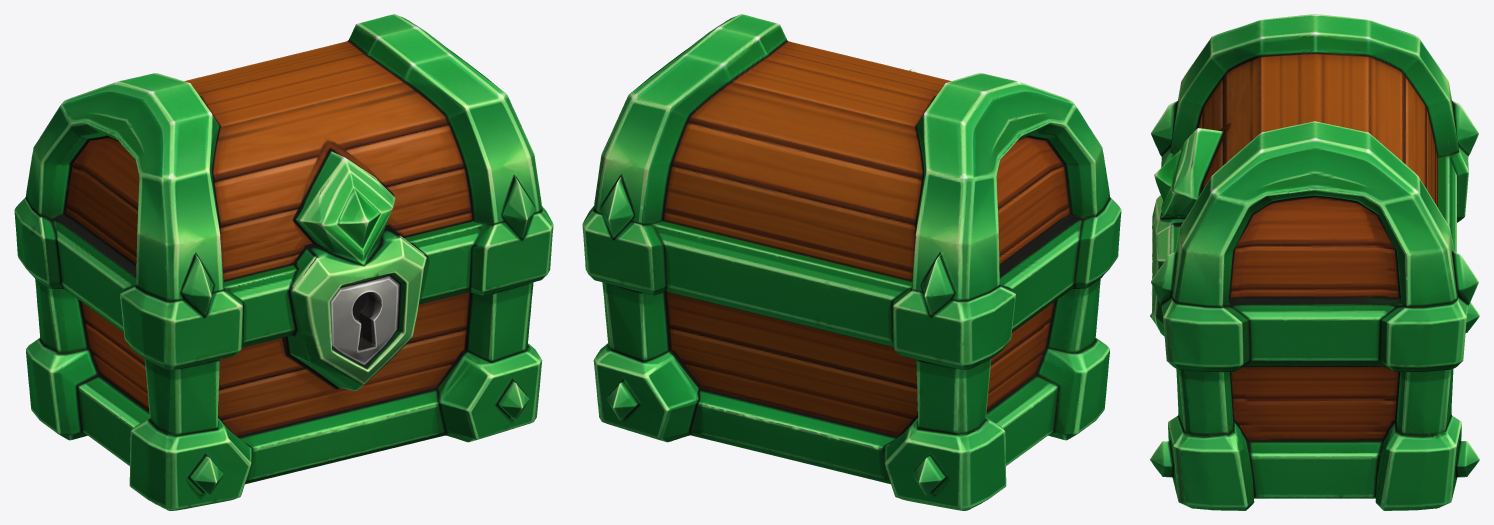
Rendered from Bau_Normal.glb.
The picture shows the model from 3 angles, left to right: view 1: azimuth 30°, elevation 25°; view 2: azimuth 150°, elevation 25°; view 3: azimuth 270°, elevation 25°; orthographic projection. The views are drawn at different scales.
Size of the model in its own units: 1.9 by 1.63 by 1.39.
Materials: 1 (1 with a texture image).
